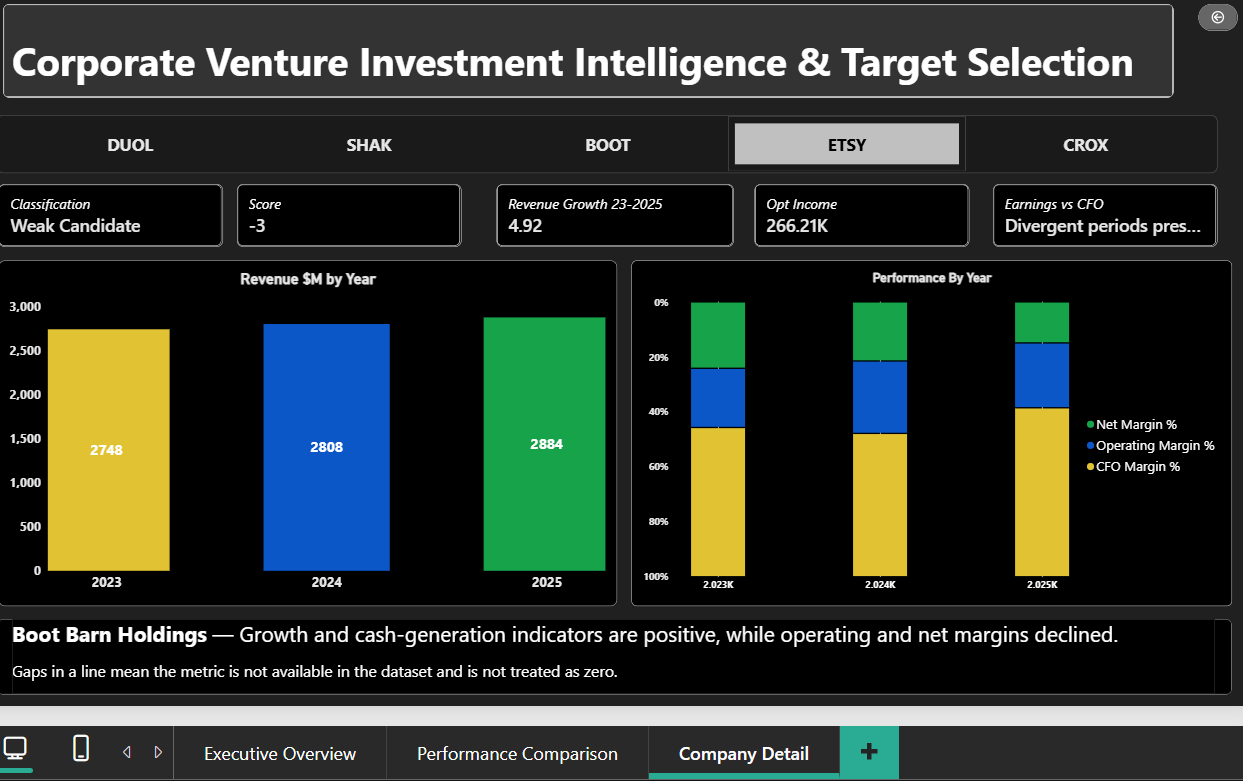

What the dashboard file says about the page in this screenshot:
{"tool":"powerbi","page":{"name":"Company Detail","canvas":[1920,1080],"ordinal":2},"visuals":[{"type":"slicer","fields":{"Values":["investment_intelligence investment_screening.company"]},"box":[22,185.8,1848.3,88],"z":0},{"type":"cardVisual","fields":{"Data":["Min(investment_intelligence investment_screening.Classification)"]},"box":[24.4,290.9,339.8,95.3],"z":1000},{"type":"cardVisual","fields":{"Data":["Sum(investment_intelligence investment_screening.Net Score)"]},"box":[386.3,290.9,339.8,95.3],"z":2000},{"type":"cardVisual","fields":{"Data":["Sum(investment_intelligence investment_screening.revenue_growth_2023_to_2025_pct)"]},"box":[779.9,290.9,359.4,95.3],"z":3000},{"type":"cardVisual","fields":{"Data":["Sum(investment_intelligence investment_screening.operating_income_usd_000)"]},"box":[1168.6,290.9,325.2,95.3],"z":4000},{"type":"cardVisual","fields":{"Data":["investment_intelligence investment_screening.Sel Earnings vs CFO"]},"box":[1530.5,290.9,339.8,95.3],"z":5000},{"type":"clusteredColumnChart","fields":{"Category":["financial_data.fiscal_year"],"Y":["financial_data.Revenue $M"]},"box":[24.4,405.8,936.4,523.2],"z":6000},{"type":"lineChart","fields":{"Category":["financial_data.fiscal_year"],"Y":["financial_data.Net Margin %","financial_data.Operating Margin %","financial_data.CFO Margin %","financial_data.Gross Margin %"]},"box":[982.8,405.8,909.5,523.2],"z":7000},{"type":"shape","box":[22,948.6,1870.3,114.9],"z":8000},{"type":"textbox","box":[46.5,948.6,1821.4,114.9],"z":9000},{"type":"shape","box":[31.8,17.1,1772.5,141.8],"z":10000},{"type":"textbox","box":[46.5,63.6,1775,95.3],"z":11000},{"type":"actionButton","box":[1841,17.1,59.3,40.4],"z":12000}]}

Visuals, with their boxes on the page's 1920x1080 design canvas (x1, y1, x2, y2). These are canvas units, not pixel positions in the 1243x781 screenshot, which may show the page scaled, cropped or inside an application window:
slicer - investment_intelligence investment_screening.company: bbox=[22, 186, 1870, 274]
cardVisual - Min(investment_intelligence investment_screening.Classification): bbox=[24, 291, 364, 386]
cardVisual - Sum(investment_intelligence investment_screening.Net Score): bbox=[386, 291, 726, 386]
cardVisual - Sum(investment_intelligence investment_screening.revenue_growth_2023_to_2025_pct): bbox=[780, 291, 1139, 386]
cardVisual - Sum(investment_intelligence investment_screening.operating_income_usd_000): bbox=[1169, 291, 1494, 386]
cardVisual - investment_intelligence investment_screening.Sel Earnings vs CFO: bbox=[1530, 291, 1870, 386]
clusteredColumnChart - financial_data.fiscal_year x financial_data.Revenue $M: bbox=[24, 406, 961, 929]
lineChart - financial_data.fiscal_year x financial_data.Net Margin %: bbox=[983, 406, 1892, 929]
shape: bbox=[22, 949, 1892, 1064]
textbox: bbox=[46, 949, 1868, 1064]
shape: bbox=[32, 17, 1804, 159]
textbox: bbox=[46, 64, 1822, 159]
actionButton: bbox=[1841, 17, 1900, 58]
